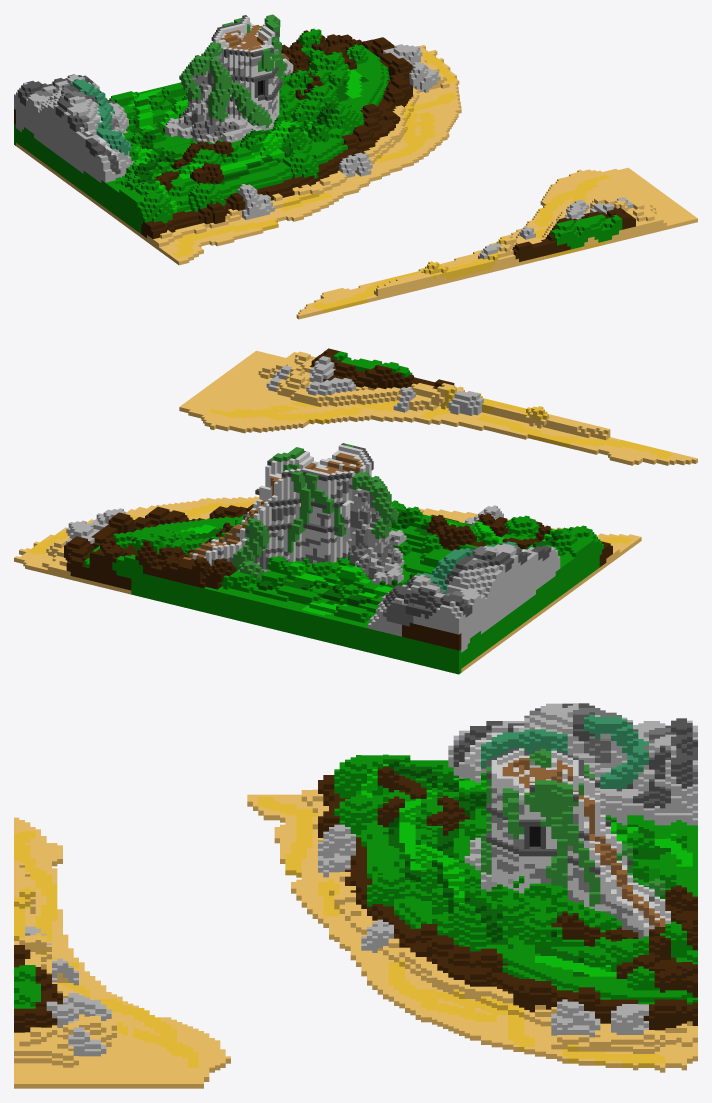
The model's file is Border5.obj.
The picture shows the model from 3 angles, top to bottom: view 1: azimuth 30°, elevation 25°; view 2: azimuth 150°, elevation 25°; view 3: azimuth 270°, elevation 25°; orthographic projection. The views are drawn at different scales.
Size of the model in its own units: 126 by 31 by 126.
1 material, 1 textured.
